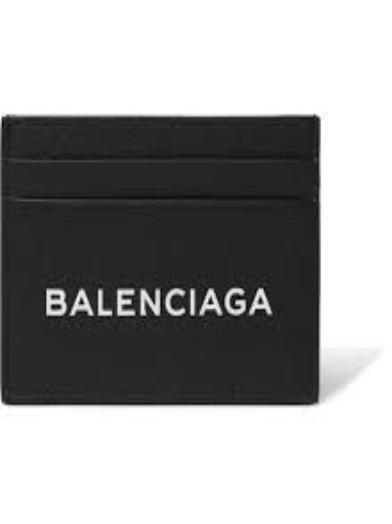BALENCIAGA: (40, 283, 276, 322)
